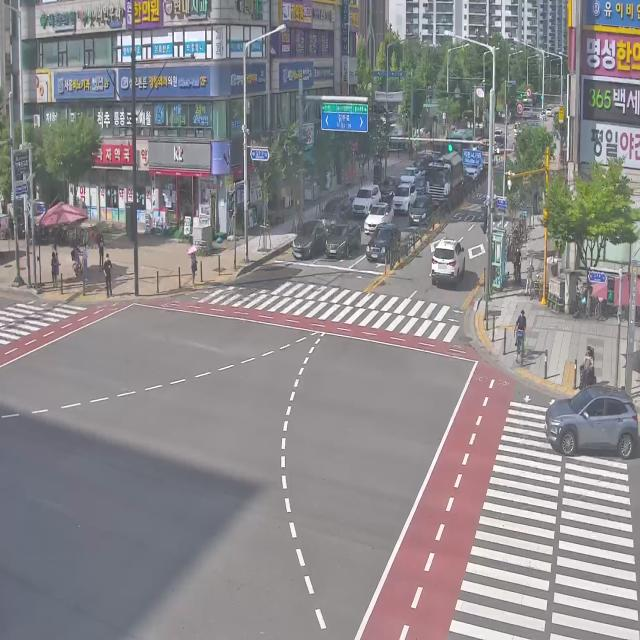Bus: (446, 124, 474, 156)
Car: (544, 382, 638, 458), (320, 188, 359, 234), (431, 237, 465, 286), (364, 222, 402, 264), (292, 220, 327, 262), (325, 220, 362, 259), (351, 185, 382, 217), (393, 180, 416, 217), (410, 192, 433, 228), (378, 171, 398, 205), (398, 163, 418, 187), (463, 161, 479, 184), (414, 170, 428, 196)
Truck: (426, 154, 462, 209)
